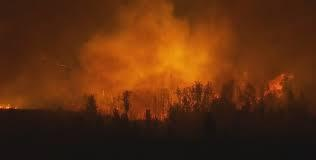fire: (234, 67, 296, 109)
